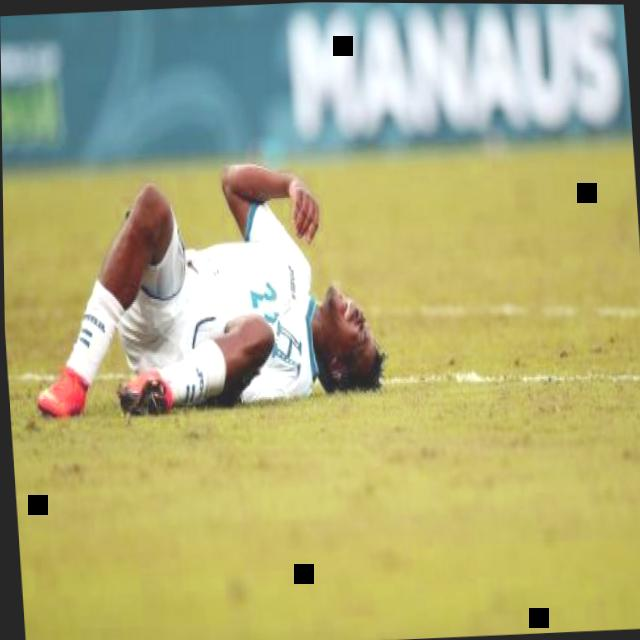Fall-Detected: (2, 129, 388, 431)
